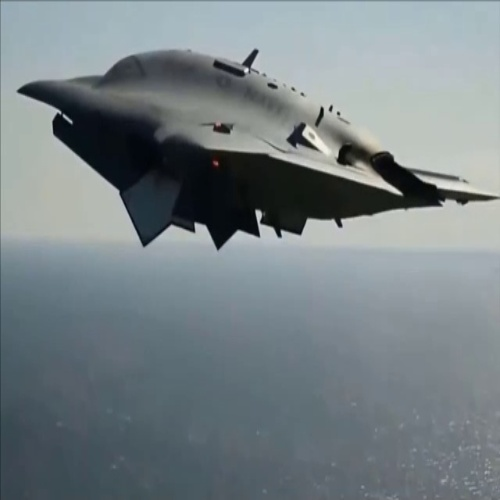uav854: (11, 48, 498, 253)
